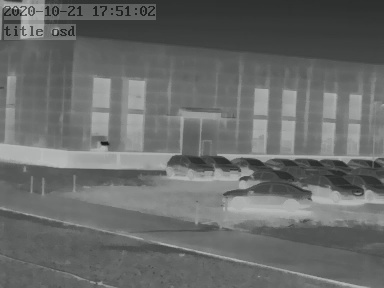vehicle: (229, 177, 307, 208), (303, 171, 364, 200), (165, 152, 212, 179), (350, 173, 384, 201), (205, 153, 243, 177), (232, 154, 269, 173), (347, 155, 381, 171), (316, 156, 347, 171), (265, 156, 295, 171), (295, 156, 324, 170)
